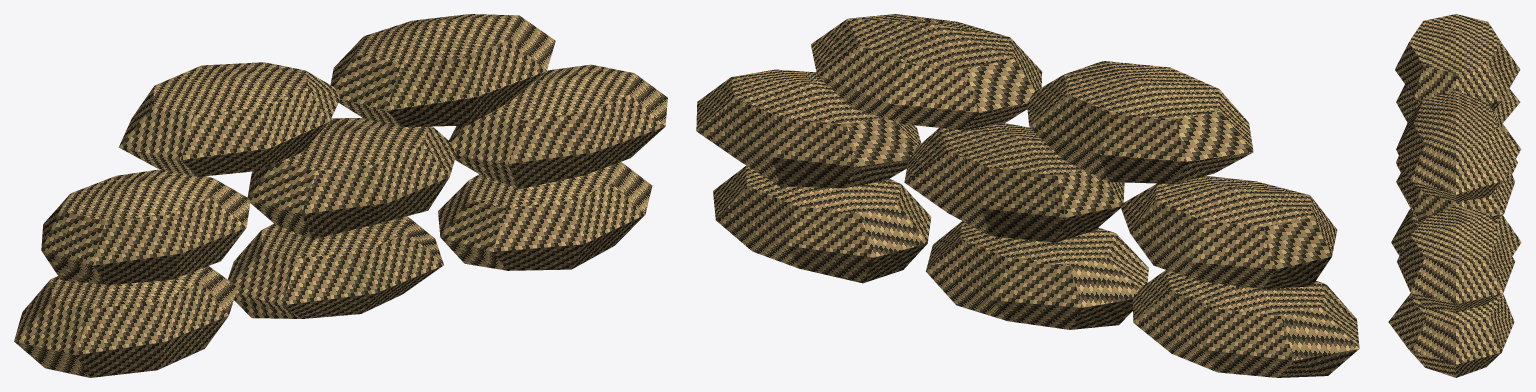
The model's file is prop_sandbags.glb.
The picture shows the model from 3 angles, left to right: view 1: azimuth 30°, elevation 25°; view 2: azimuth 150°, elevation 25°; view 3: azimuth 270°, elevation 25°; orthographic projection. The views are drawn at different scales.
Parts seen in each view (by area): view 1: prop_sandbags_mesh; view 2: prop_sandbags_mesh; view 3: prop_sandbags_mesh.
Part boxes in pixels (box(x1,y1,x2,y2)): prop_sandbags_mesh: box(14, 14, 667, 377); prop_sandbags_mesh: box(696, 14, 1359, 377); prop_sandbags_mesh: box(1388, 14, 1521, 377).
Size of the model in its own units: 1.71 by 0.6626 by 0.3818.
1 material, 1 textured.
